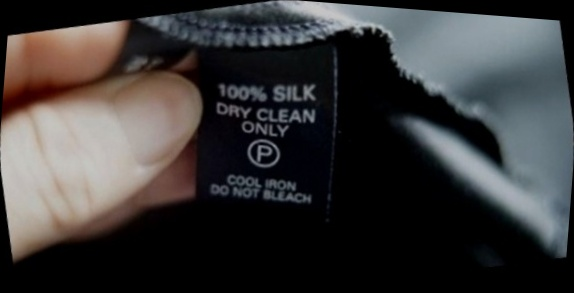dry_clean_any_solvent_except_trichloroethylene: (241, 129, 289, 176)
